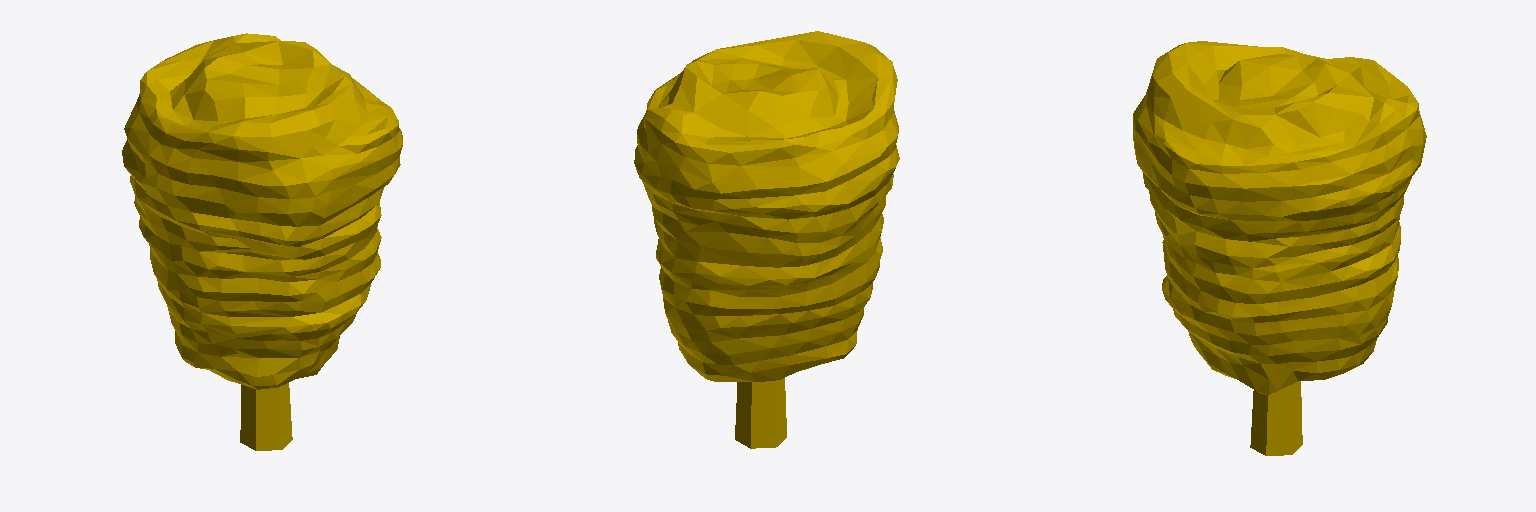
File: fabulous_tree_001.obj
The picture shows the model from 3 angles: view 1: azimuth 30°, elevation 25°; view 2: azimuth 150°, elevation 25°; view 3: azimuth 270°, elevation 25°; orthographic projection.
Parts seen in each view (by area): view 1: fabulous_tree_001; view 2: fabulous_tree_001; view 3: fabulous_tree_001.
Part boxes in pixels (x1,y1,x2,y2): fabulous_tree_001: (122, 33, 402, 450); fabulous_tree_001: (634, 31, 899, 448); fabulous_tree_001: (1133, 41, 1426, 455).
Bounding box in the file's own units: 3.47 × 5.37 × 3.84.